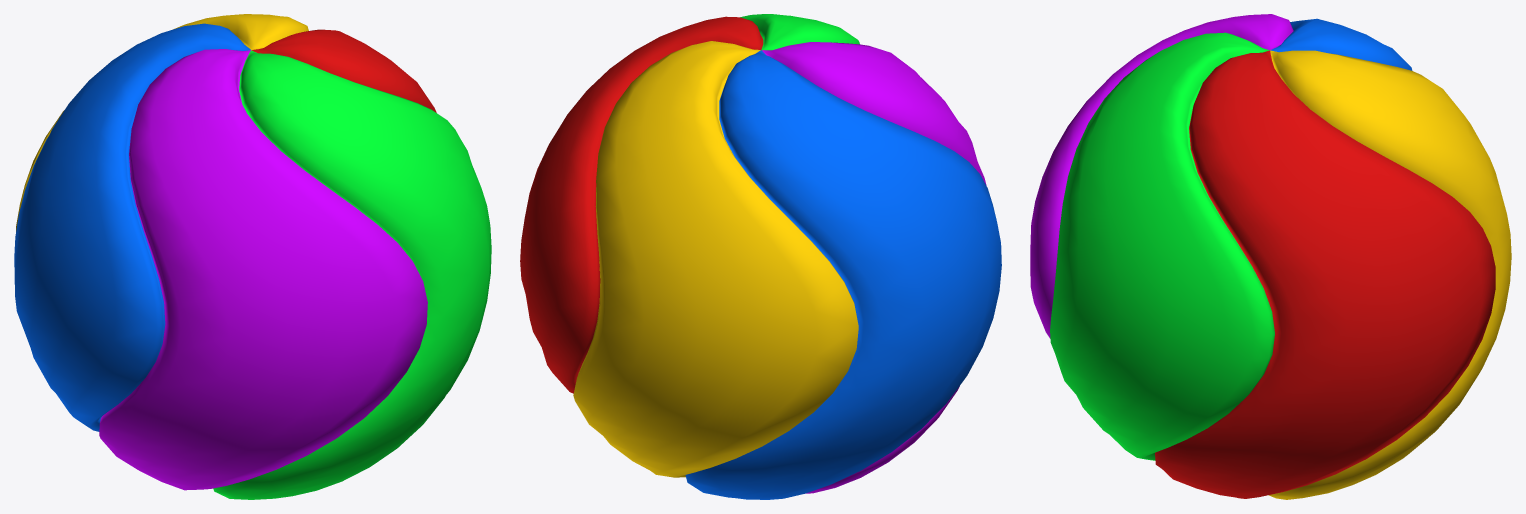
Rendered from Rainbow Ball (2).fbx.
3 renders of one model, left to right at view 1: azimuth 30°, elevation 25°; view 2: azimuth 150°, elevation 25°; view 3: azimuth 270°, elevation 25°, orthographic.
Visible parts, largest first — view 1: Sphere.001; view 2: Sphere.001; view 3: Sphere.001.
Part boxes in pixels (x1,y1,x2,y2): Sphere.001: (14,14,491,499); Sphere.001: (520,14,1001,499); Sphere.001: (1030,14,1511,499).
Size of the model in its own units: 1.43 by 1.41 by 1.43.
